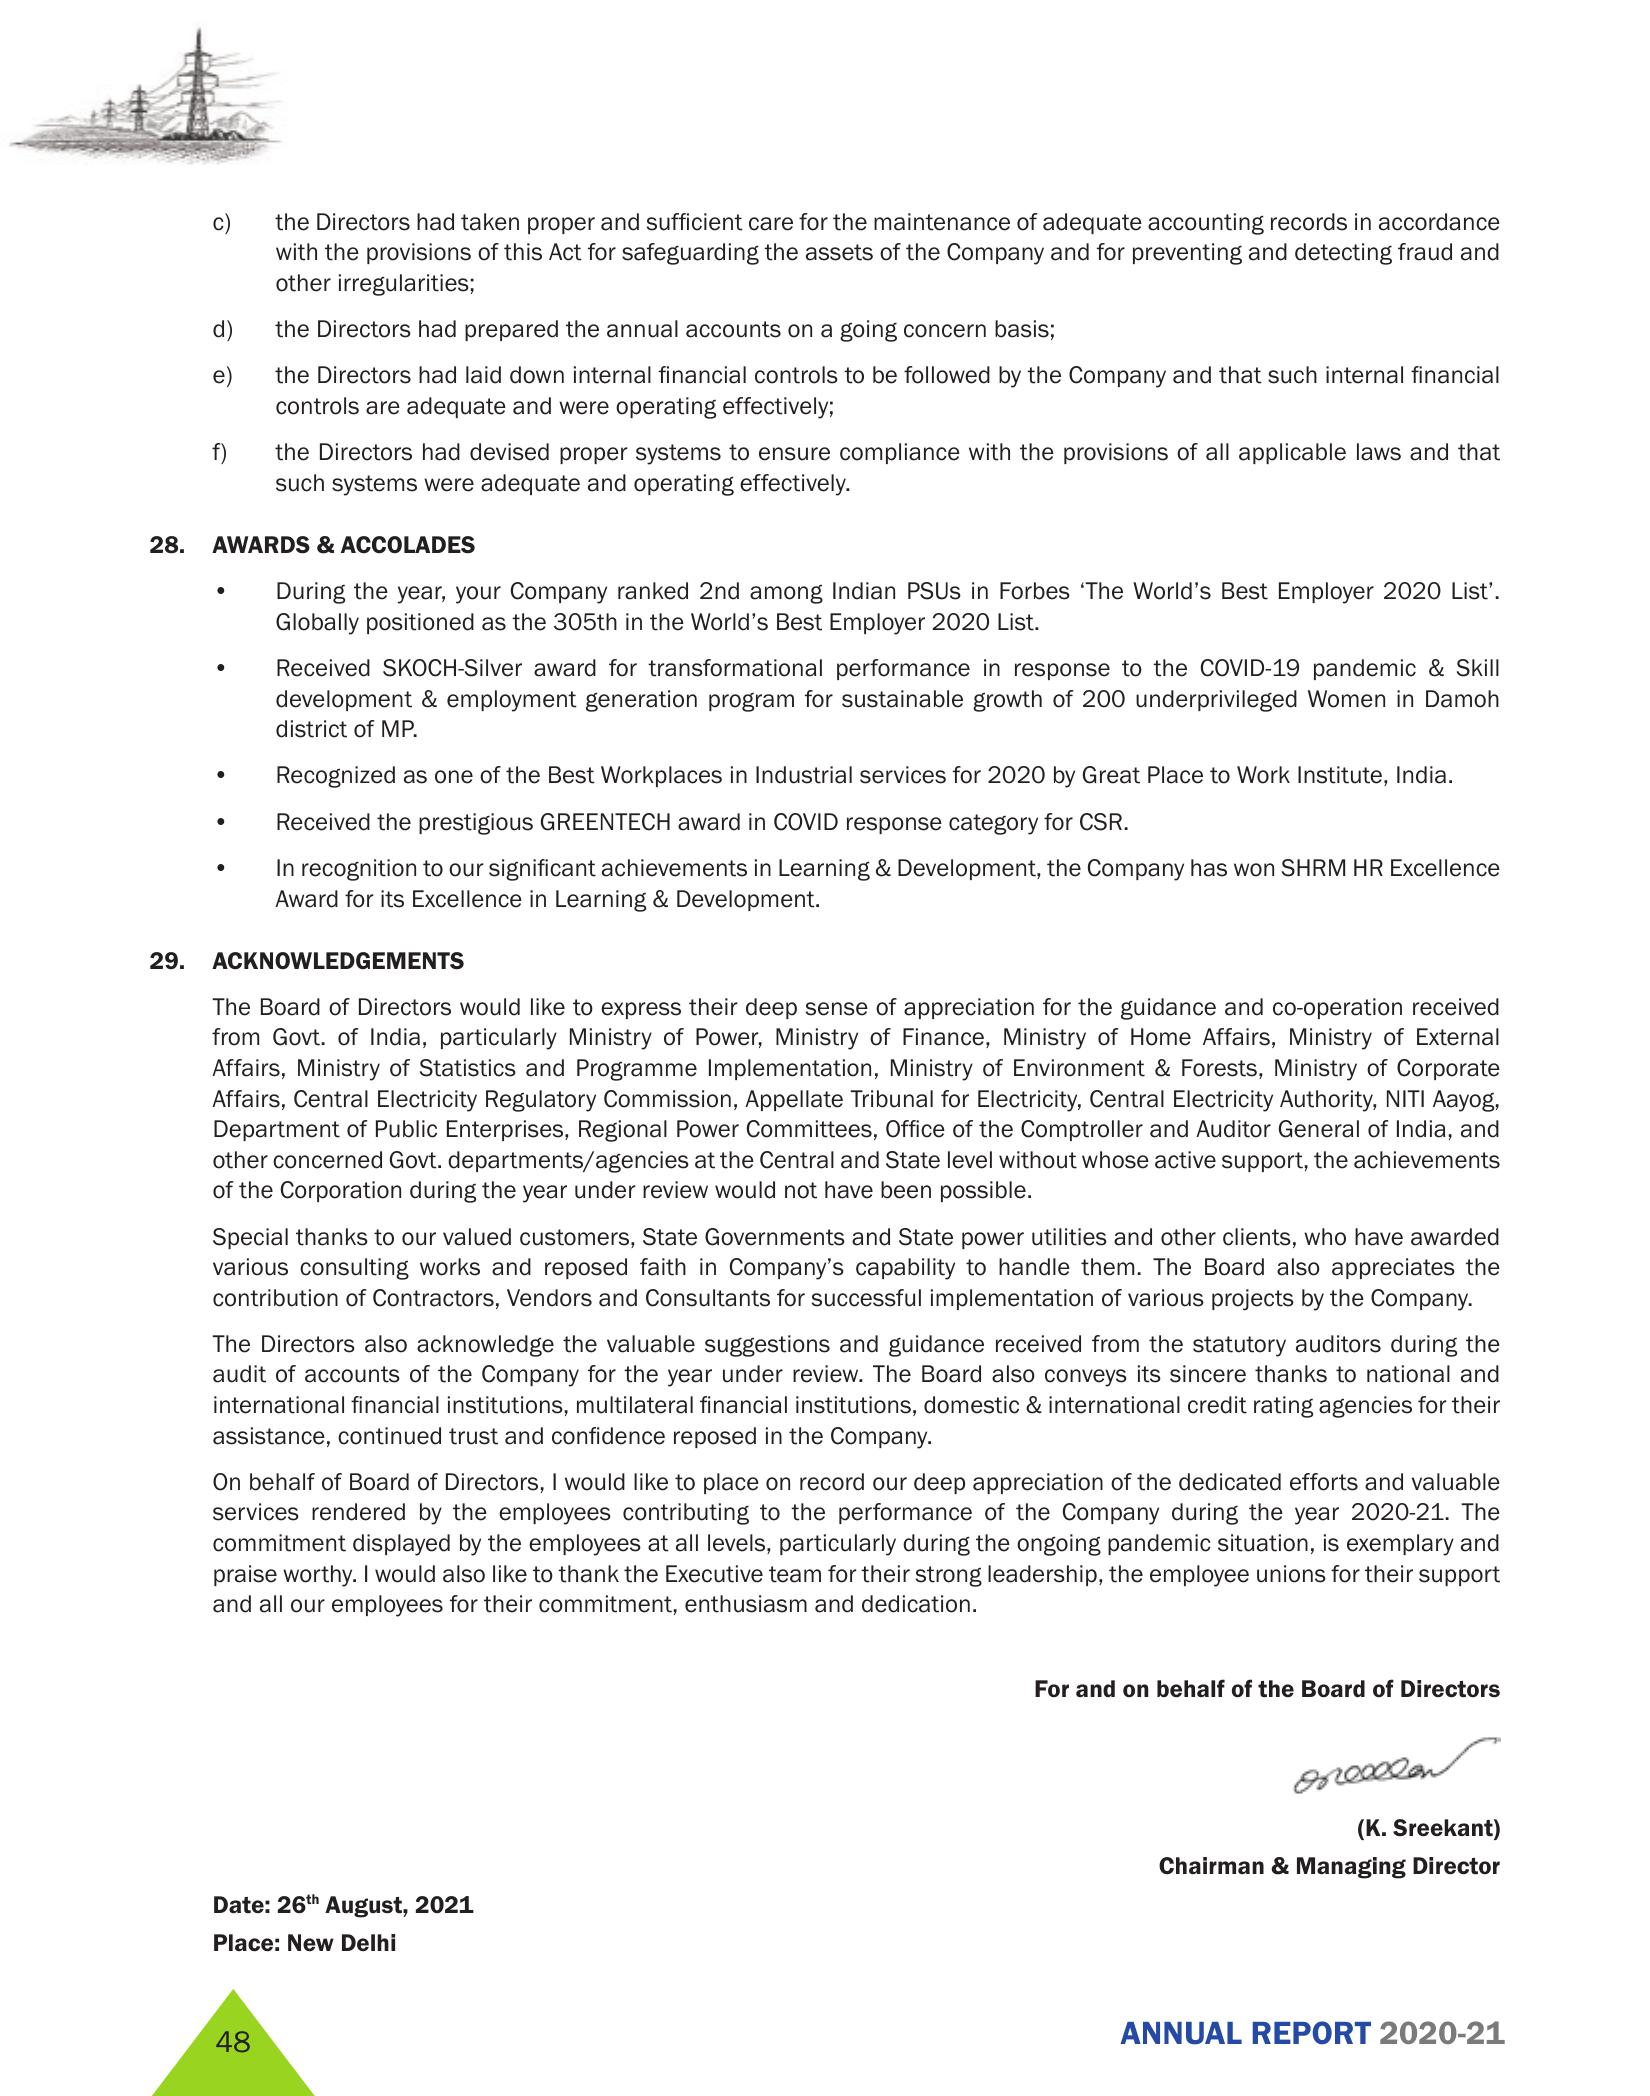Footer: (0, 1962, 1650, 2096)
Header: (0, 0, 1650, 180)
